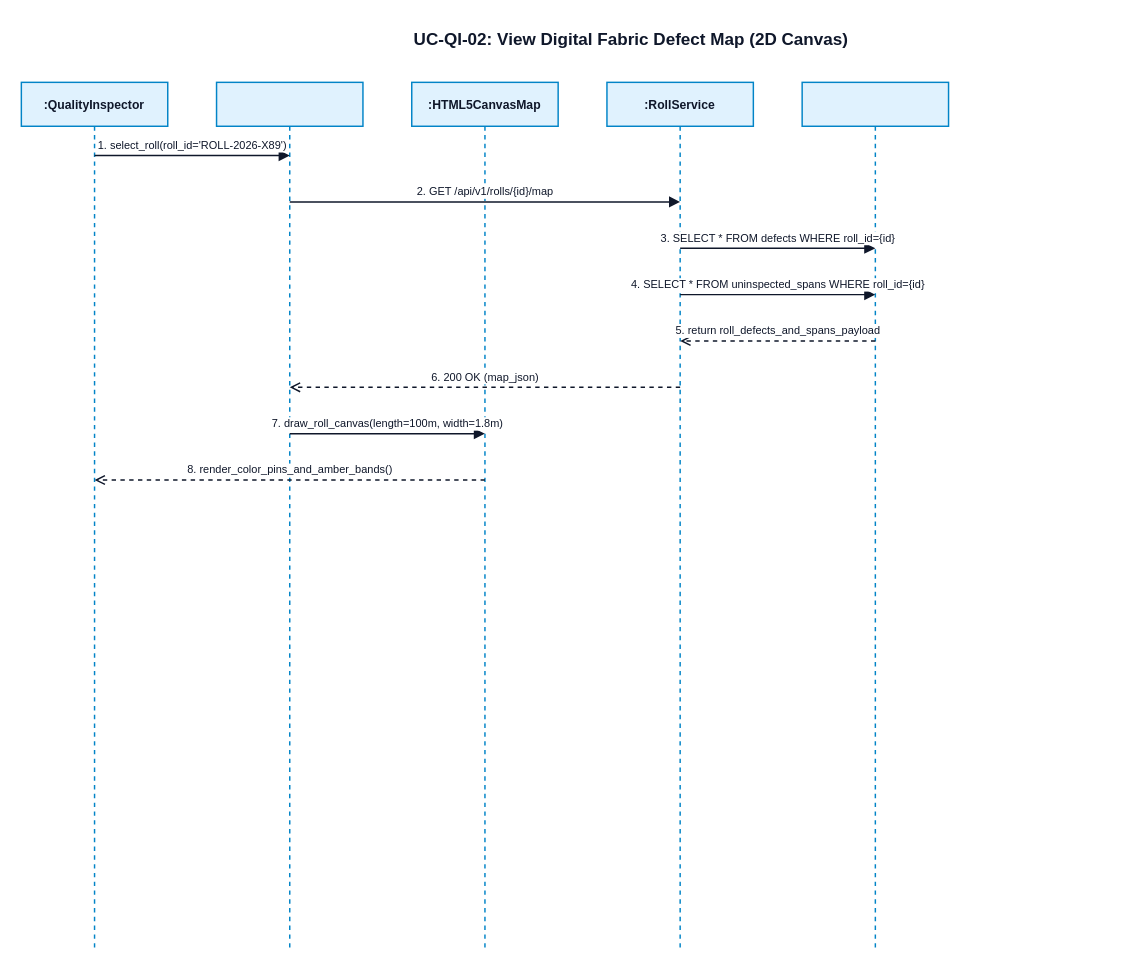
Some shapes in this 1141 by 970 pixel diagram are drawn without their labels. The box of each missing label's shape, as (x1, y1, x2, y2) in pixels:
:PostgreSQLDB: (801, 81, 949, 949)
:ReactWebDashboard: (215, 81, 363, 949)
